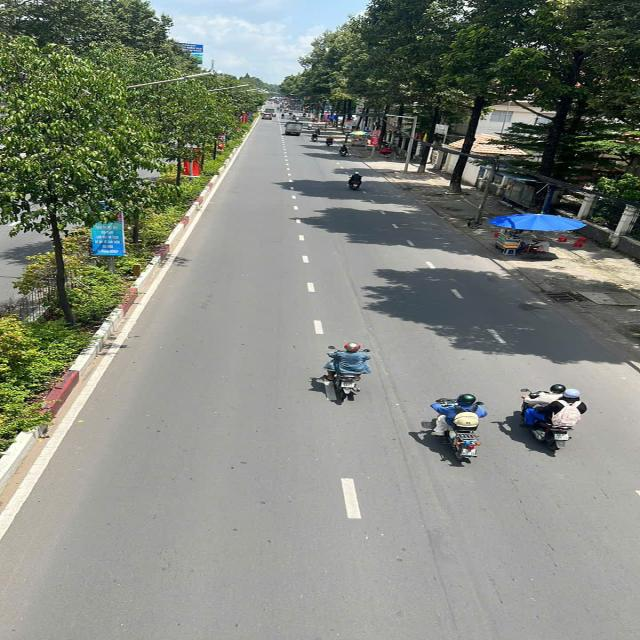Truck: (284, 122, 302, 137)
car: (262, 114, 272, 120)
motobyte: (526, 381, 584, 451), (434, 391, 482, 464), (327, 340, 370, 400), (345, 170, 363, 192), (340, 145, 346, 158), (327, 137, 334, 147), (311, 134, 317, 142), (306, 123, 312, 131), (316, 128, 320, 134), (281, 113, 285, 119), (296, 116, 300, 122), (293, 115, 296, 119), (290, 113, 293, 116)
